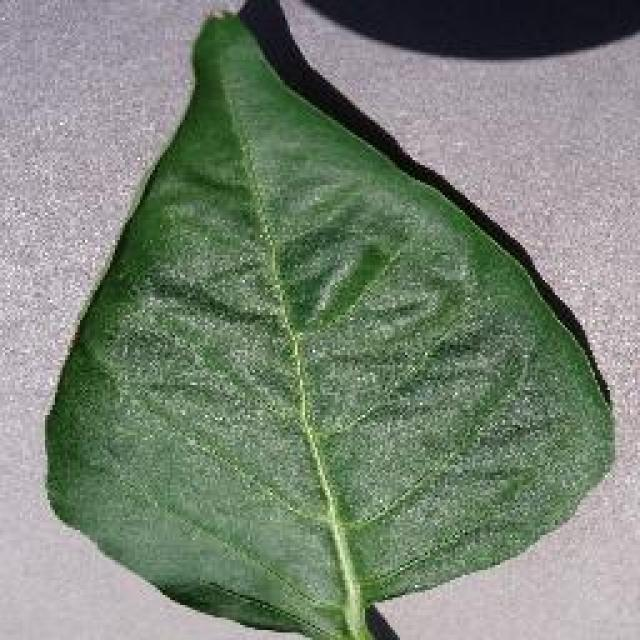Leaf: (27, 7, 640, 632)
